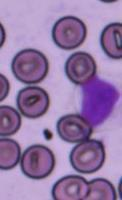L: (76, 71, 121, 131)
